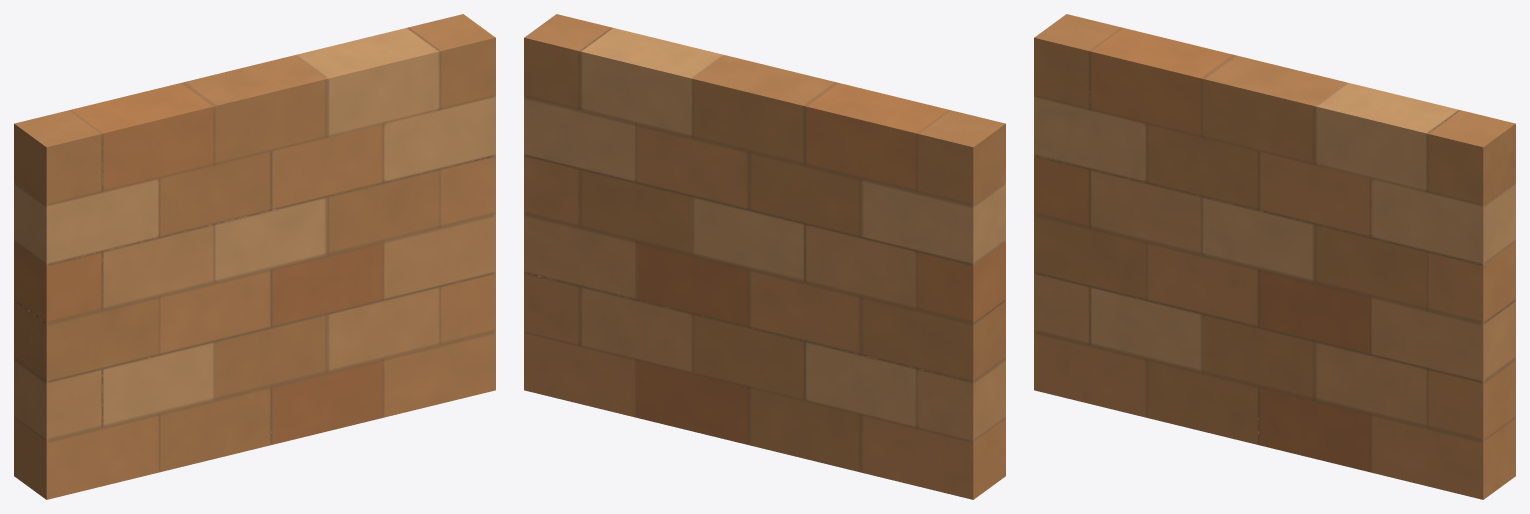
3 views of the same model, side by side, from view 1: azimuth 30°, elevation 25°; view 2: azimuth 150°, elevation 25°; view 3: azimuth 330°, elevation 25° (orthographic).
Visible parts, largest first — view 1: ss02-dressed-sandstone; view 2: ss02-dressed-sandstone; view 3: ss02-dressed-sandstone.
Boxes of the visible parts, x1,y1,x2,y2 form: ss02-dressed-sandstone: (14, 14, 495, 499); ss02-dressed-sandstone: (524, 14, 1005, 499); ss02-dressed-sandstone: (1034, 14, 1515, 499).
Bounding box in the file's own units: 400 × 300 × 50.
